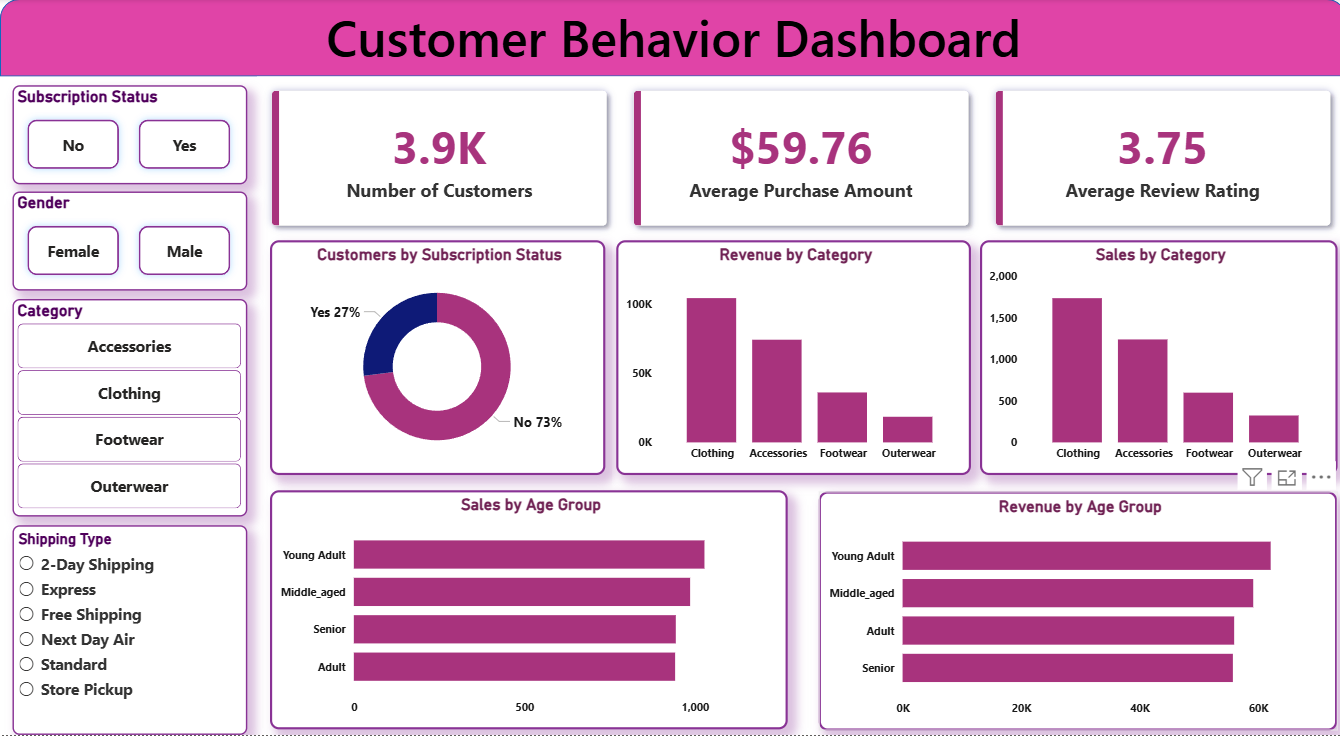

What the dashboard file says about the page in this screenshot:
{"tool":"powerbi","page":{"name":"Page 1","canvas":[1500,820],"ordinal":0},"visuals":[{"type":"shape","box":[0,0,1499.9,86.3],"z":0},{"type":"textbox","title":"Customer Behavior Dashboard","box":[12.5,4.2,1476.2,79.4],"z":1000},{"type":"cardVisual","fields":{"Data":["public customer.Number of Customers","public customer.Average Purchase Amount","public customer.Average Review Rating"]},"box":[286.9,86.3,1213,182.4],"z":2000},{"type":"donutChart","title":"Customers by Subscription Status","fields":{"Category":["public customer.subscription_status"],"Y":["CountNonNull(public customer.customer_id)"]},"box":[300.8,268.8,373.2,261.8],"z":3000},{"type":"clusteredColumnChart","title":"Revenue by Category","fields":{"Y":["Sum(public customer.purchase_amount)"],"Category":["public customer.category"]},"box":[686.6,268.8,395.5,261.8],"z":4000},{"type":"clusteredColumnChart","title":"Sales by Category","fields":{"Category":["public customer.category"],"Y":["CountNonNull(public customer.customer_id)"]},"box":[1091.9,268.8,398.3,261.8],"z":5000},{"type":"advancedSlicerVisual","title":"Subscription Status","fields":{"Values":["public customer.subscription_status"]},"box":[13.9,96.1,261.8,110],"z":6000},{"type":"advancedSlicerVisual","title":"Gender","fields":{"Values":["public customer.gender"]},"box":[13.9,214.5,261.8,110],"z":8000},{"type":"advancedSlicerVisual","title":"Category","fields":{"Values":["public customer.category"]},"box":[13.9,334.2,261.8,242.3],"z":9000},{"type":"listSlicer","title":"Shipping Type","fields":{"Values":["public customer.shipping_type"]},"box":[13.9,586.3,261.8,234],"z":10000},{"type":"clusteredBarChart","title":"Revenue by Age Group","fields":{"Y":["Sum(public customer.purchase_amount)"],"Category":["public customer.age_group"]},"box":[912.2,548.7,578,266],"z":10002},{"type":"clusteredBarChart","title":"Sales by Age Group","fields":{"Y":["CountNonNull(public customer.customer_id)"],"Category":["public customer.age_group"]},"box":[300.8,547.3,577,266],"z":10003}]}

Visuals, with their boxes in screenshot pixels (x1, y1, x2, y2), scaled from the page's 1500x820 canvas onto the 1340x736 screenshot:
shape: (left=0, top=0, right=1339, bottom=77)
"Customer Behavior Dashboard" textbox: (left=11, top=4, right=1330, bottom=75)
cardVisual - public customer.Number of Customers x public customer.Average Purchase Amount: (left=256, top=77, right=1339, bottom=241)
"Customers by Subscription Status" donutChart: (left=269, top=241, right=602, bottom=476)
"Revenue by Category" clusteredColumnChart: (left=613, top=241, right=967, bottom=476)
"Sales by Category" clusteredColumnChart: (left=975, top=241, right=1331, bottom=476)
"Subscription Status" advancedSlicerVisual: (left=12, top=86, right=246, bottom=185)
"Gender" advancedSlicerVisual: (left=12, top=193, right=246, bottom=291)
"Category" advancedSlicerVisual: (left=12, top=300, right=246, bottom=517)
"Shipping Type" listSlicer: (left=12, top=526, right=246, bottom=735)
"Revenue by Age Group" clusteredBarChart: (left=815, top=492, right=1331, bottom=731)
"Sales by Age Group" clusteredBarChart: (left=269, top=491, right=784, bottom=730)
